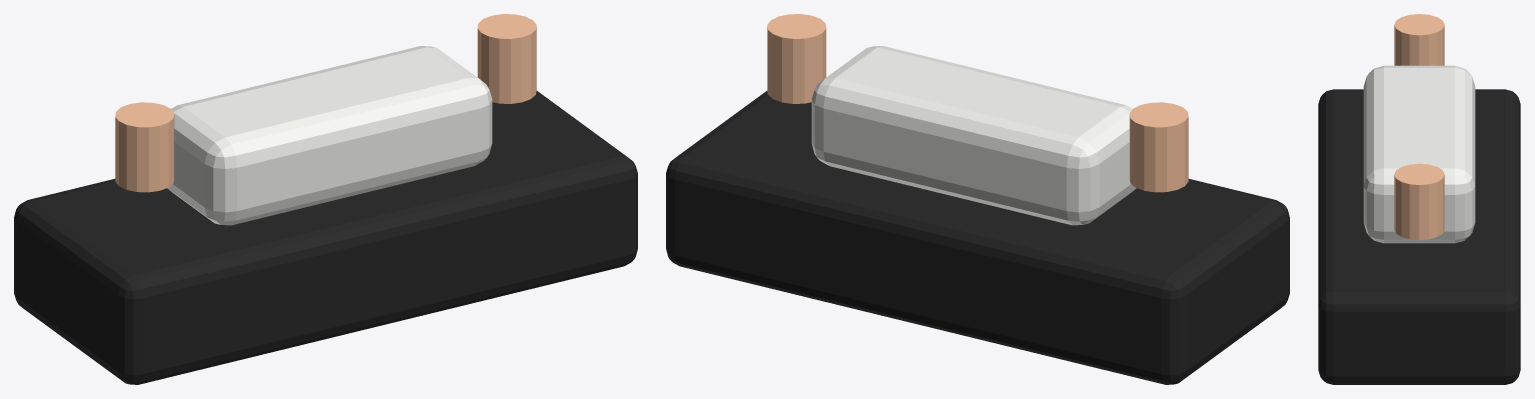
The model's file is generic-anl-250a.glb.
3 renders of one model, left to right at view 1: azimuth 30°, elevation 25°; view 2: azimuth 150°, elevation 25°; view 3: azimuth 270°, elevation 25°, orthographic. The views are drawn at different scales.
Parts seen in each view (by area): view 1: base, fuse, stud-in, stud-out; view 2: base, fuse, stud-in, stud-out; view 3: base, fuse, stud-out, stud-in.
Part boxes in pixels (x1,y1,x2,y2): base: [14, 91, 637, 384]; fuse: [167, 46, 492, 225]; stud-in: [115, 102, 174, 192]; stud-out: [477, 14, 536, 103]; base: [666, 91, 1289, 384]; fuse: [811, 46, 1136, 225]; stud-in: [1129, 102, 1188, 192]; stud-out: [767, 14, 826, 103]; base: [1318, 89, 1520, 384]; fuse: [1363, 65, 1475, 243]; stud-out: [1394, 163, 1444, 240]; stud-in: [1394, 14, 1444, 65].
Bounding box in the file's own units: 0.1 × 0.04 × 0.04.
